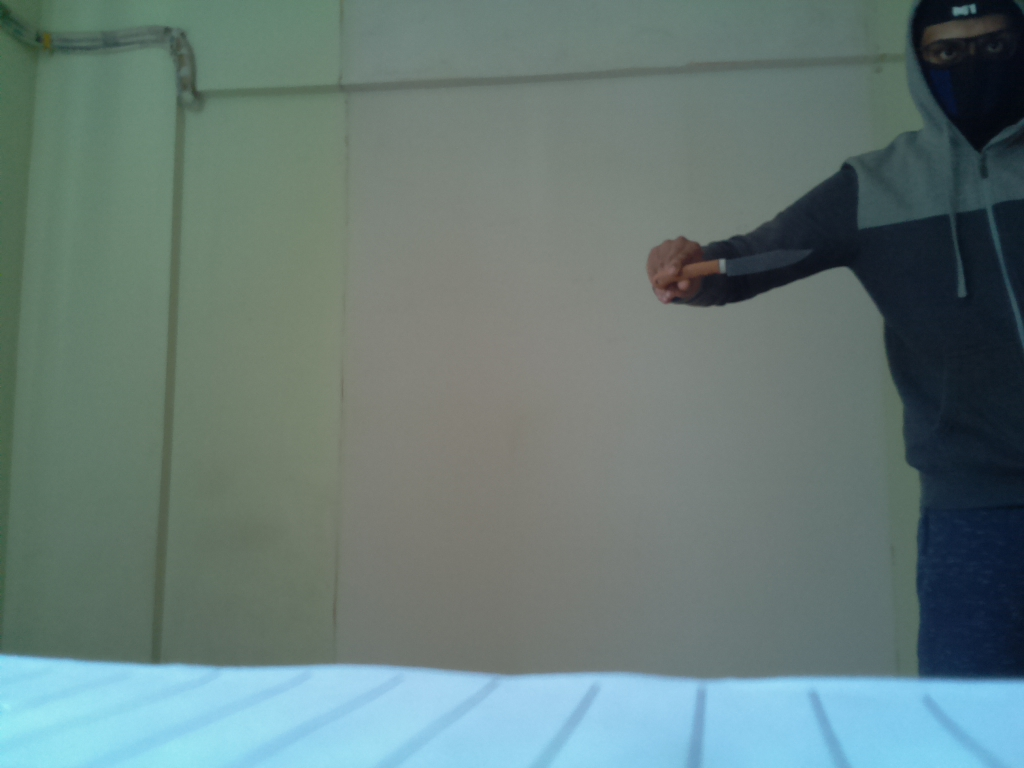knife: (689, 237, 827, 283)
